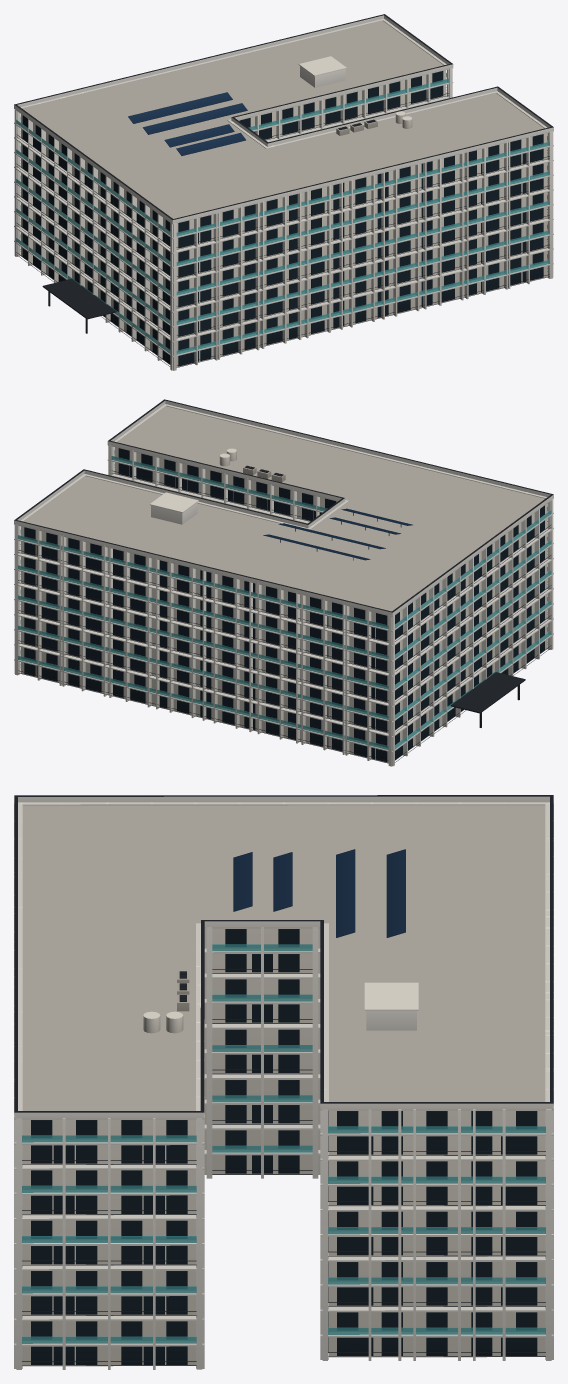
Rendered from himalaya_hostel.glb.
The picture shows the model from 3 angles, top to bottom: view 1: azimuth 30°, elevation 25°; view 2: azimuth 150°, elevation 25°; view 3: azimuth 270°, elevation 25°; orthographic projection. The views are drawn at different scales.
Parts seen in each view (by area): view 1: LOD0_High_StuccoWhite, LOD0_High_RoofSlabConcrete, LOD0_High_RecessedCavityGlass, LOD0_High_StuccoWarmTrim, LOD0_High_AquaBalconyGlass, LOD0_High_DarkAnodizedSteel, LOD1_Medium_StuccoWhite, LOD1_Medium_RecessedCavityGlass, LOD0_High_SolarPV; view 2: LOD0_High_StuccoWhite, LOD0_High_RoofSlabConcrete, LOD0_High_RecessedCavityGlass, LOD0_High_StuccoWarmTrim, LOD0_High_AquaBalconyGlass, LOD0_High_DarkAnodizedSteel, LOD1_Medium_RecessedCavityGlass, LOD1_Medium_StuccoWhite, LOD0_High_SolarPV; view 3: LOD0_High_RoofSlabConcrete, LOD0_High_StuccoWhite, LOD0_High_StuccoWarmTrim, LOD0_High_RecessedCavityGlass, LOD0_High_AquaBalconyGlass, LOD0_High_DarkAnodizedSteel, LOD1_Medium_RecessedCavityGlass, LOD0_High_SolarPV, LOD1_Medium_StuccoWhite.
Boxes of the visible parts, x1,y1,x2,y2 form: LOD0_High_StuccoWhite: [14, 15, 553, 370]; LOD0_High_RoofSlabConcrete: [22, 21, 544, 218]; LOD0_High_RecessedCavityGlass: [22, 71, 543, 366]; LOD0_High_StuccoWarmTrim: [21, 56, 546, 367]; LOD0_High_AquaBalconyGlass: [16, 73, 549, 354]; LOD0_High_DarkAnodizedSteel: [14, 14, 553, 367]; LOD1_Medium_StuccoWhite: [63, 50, 510, 360]; LOD1_Medium_RecessedCavityGlass: [33, 88, 532, 363]; LOD0_High_SolarPV: [128, 92, 247, 155]; LOD0_High_StuccoWhite: [14, 400, 553, 766]; LOD0_High_RoofSlabConcrete: [24, 406, 544, 611]; LOD0_High_RecessedCavityGlass: [24, 448, 544, 761]; LOD0_High_StuccoWarmTrim: [21, 447, 546, 763]; LOD0_High_AquaBalconyGlass: [18, 450, 551, 750]; LOD0_High_DarkAnodizedSteel: [14, 399, 553, 763]; LOD1_Medium_RecessedCavityGlass: [36, 466, 534, 759]; LOD1_Medium_StuccoWhite: [62, 425, 507, 754]; LOD0_High_SolarPV: [263, 508, 412, 560]; LOD0_High_RoofSlabConcrete: [22, 805, 545, 1110]; LOD0_High_StuccoWhite: [14, 796, 553, 1369]; LOD0_High_StuccoWarmTrim: [22, 928, 545, 1366]; LOD0_High_RecessedCavityGlass: [31, 929, 537, 1364]; LOD0_High_AquaBalconyGlass: [22, 944, 545, 1343]; LOD0_High_DarkAnodizedSteel: [14, 795, 553, 1365]; LOD1_Medium_RecessedCavityGlass: [53, 954, 522, 1364]; LOD0_High_SolarPV: [233, 849, 405, 937]; LOD1_Medium_StuccoWhite: [14, 837, 553, 1360].
Size of the model in its own units: 98.88 by 36.97 by 66.12.
